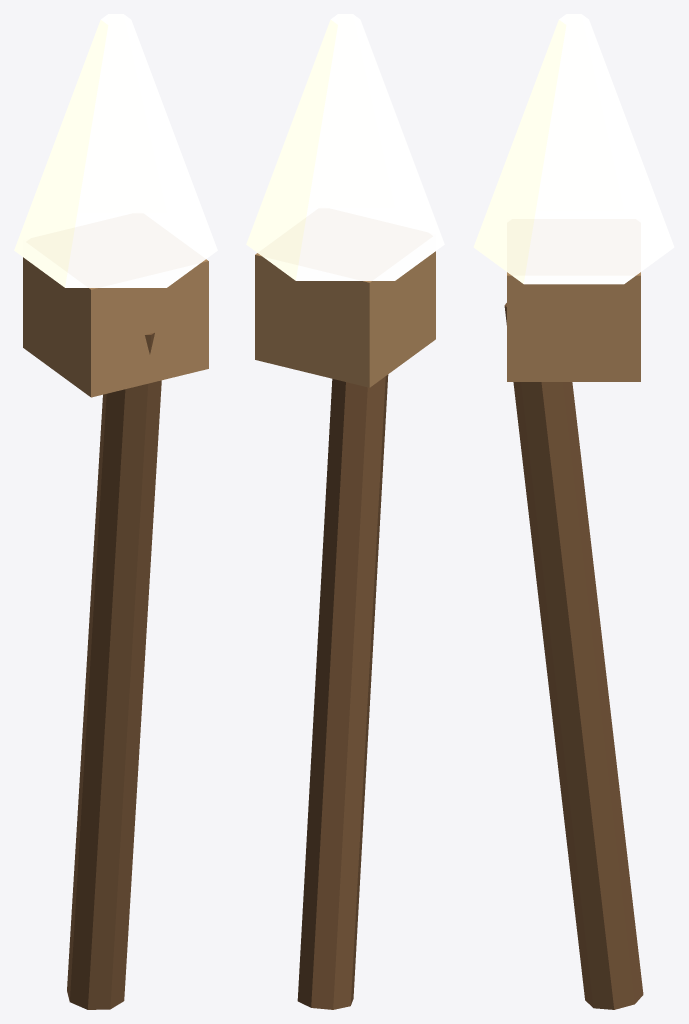
Rendered from torch.glb.
3 renders of one model, left to right at view 1: azimuth 30°, elevation 25°; view 2: azimuth 150°, elevation 25°; view 3: azimuth 270°, elevation 25°, orthographic. The views are drawn at different scales.
Parts seen in each view (by area): view 1: TorchHandle, TorchFlame, TorchWrap; view 2: TorchHandle, TorchFlame, TorchWrap; view 3: TorchHandle, TorchFlame, TorchWrap.
Boxes of the visible parts, bbox=[...] form: TorchHandle: bbox=[67, 332, 161, 1009]; TorchFlame: bbox=[14, 14, 217, 287]; TorchWrap: bbox=[23, 257, 208, 397]; TorchHandle: bbox=[297, 374, 388, 1009]; TorchFlame: bbox=[246, 14, 444, 280]; TorchWrap: bbox=[255, 251, 435, 387]; TorchHandle: bbox=[504, 303, 643, 1009]; TorchFlame: bbox=[473, 14, 674, 284]; TorchWrap: bbox=[507, 272, 640, 381].
Size of the model in its own units: 0.2078 by 1.29 by 0.24.
